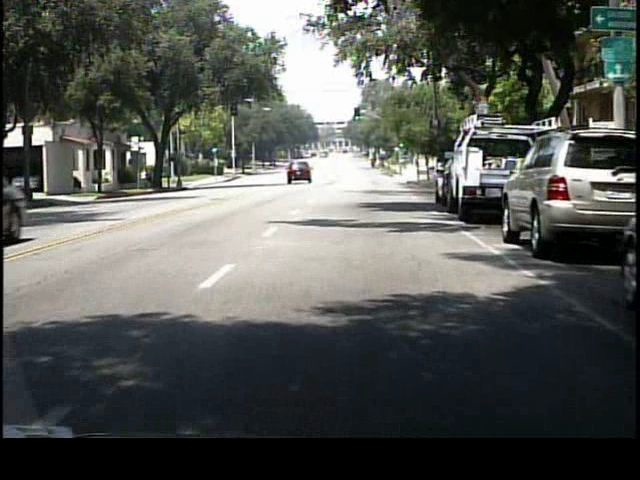person: (141, 167, 150, 190)
